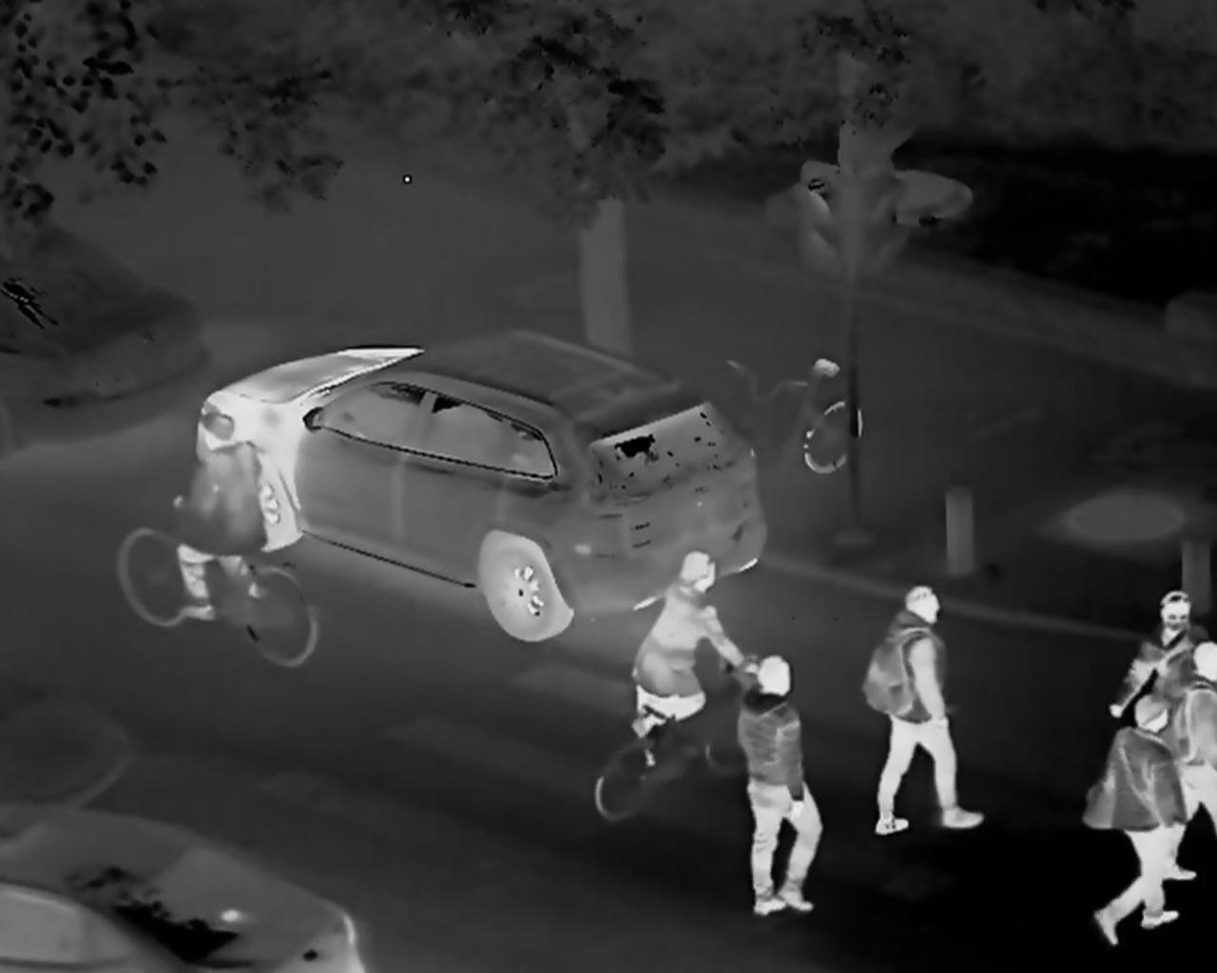person: (858, 582, 986, 832), (630, 555, 752, 766), (167, 409, 271, 629), (737, 651, 821, 916), (1106, 591, 1208, 792), (1091, 697, 1176, 927), (1180, 641, 1217, 829)
